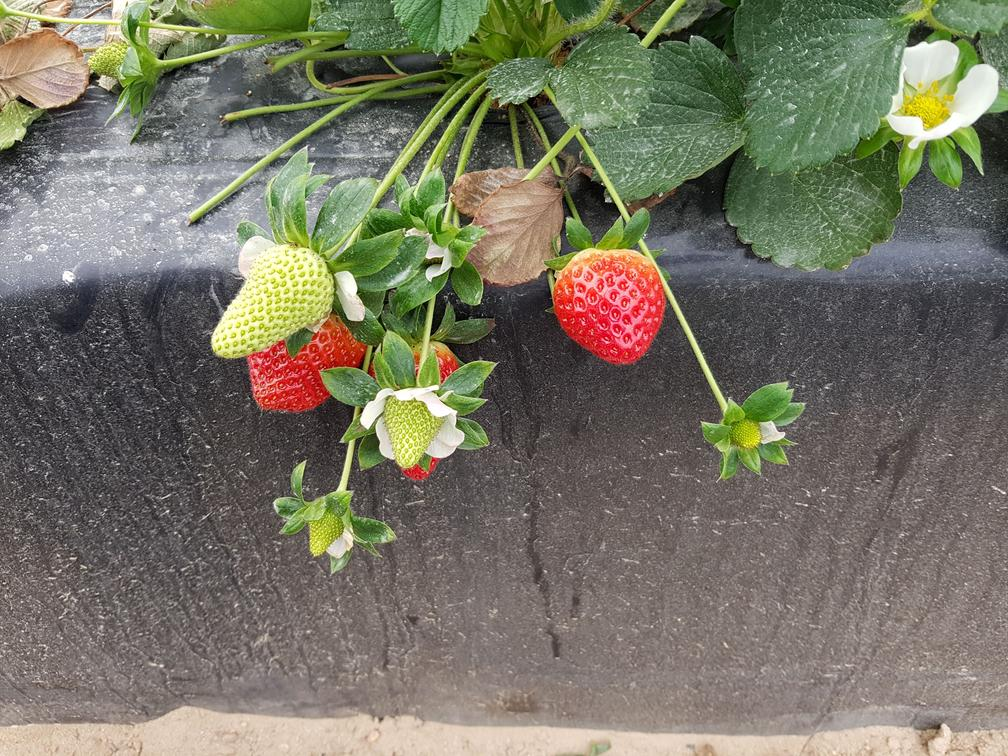Ripe: (549, 243, 674, 371), (260, 330, 366, 415)
Unripe: (201, 246, 343, 357), (381, 393, 446, 473), (300, 509, 360, 565), (726, 418, 768, 453)
